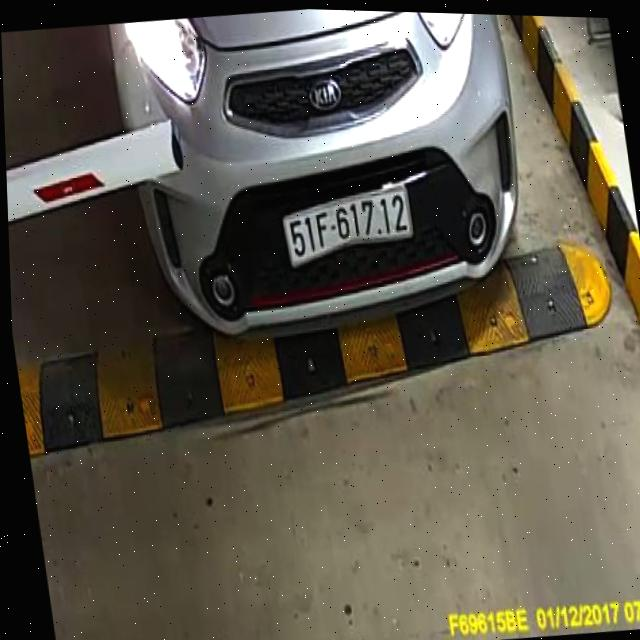car: (95, 3, 555, 365)
plate: (276, 179, 420, 272)
